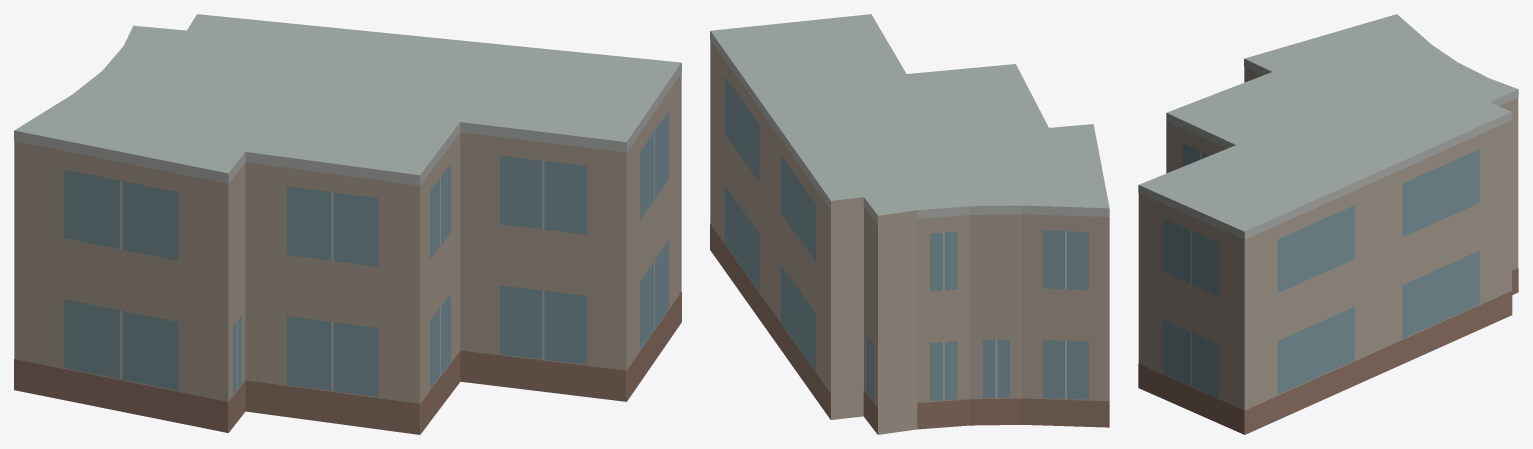
Rendered from survey-upis-32979832.glb.
3 renders of one model, left to right at view 1: azimuth 30°, elevation 25°; view 2: azimuth 150°, elevation 25°; view 3: azimuth 270°, elevation 25°, orthographic. The views are drawn at different scales.
Visible parts, largest first — view 1: survey-upis-32979832.tmp; view 2: survey-upis-32979832.tmp; view 3: survey-upis-32979832.tmp.
Boxes of the visible parts, <box> form: survey-upis-32979832.tmp: <box>14,14,681,434</box>; survey-upis-32979832.tmp: <box>710,14,1109,434</box>; survey-upis-32979832.tmp: <box>1138,14,1518,434</box>.
Size of the model in its own units: 14.03 by 6.1 by 10.35.
